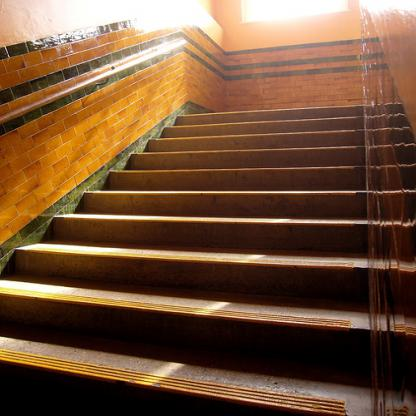stairs: (137, 152, 351, 416)
